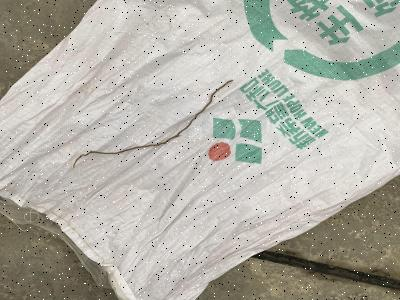Root: (72, 80, 233, 168)
